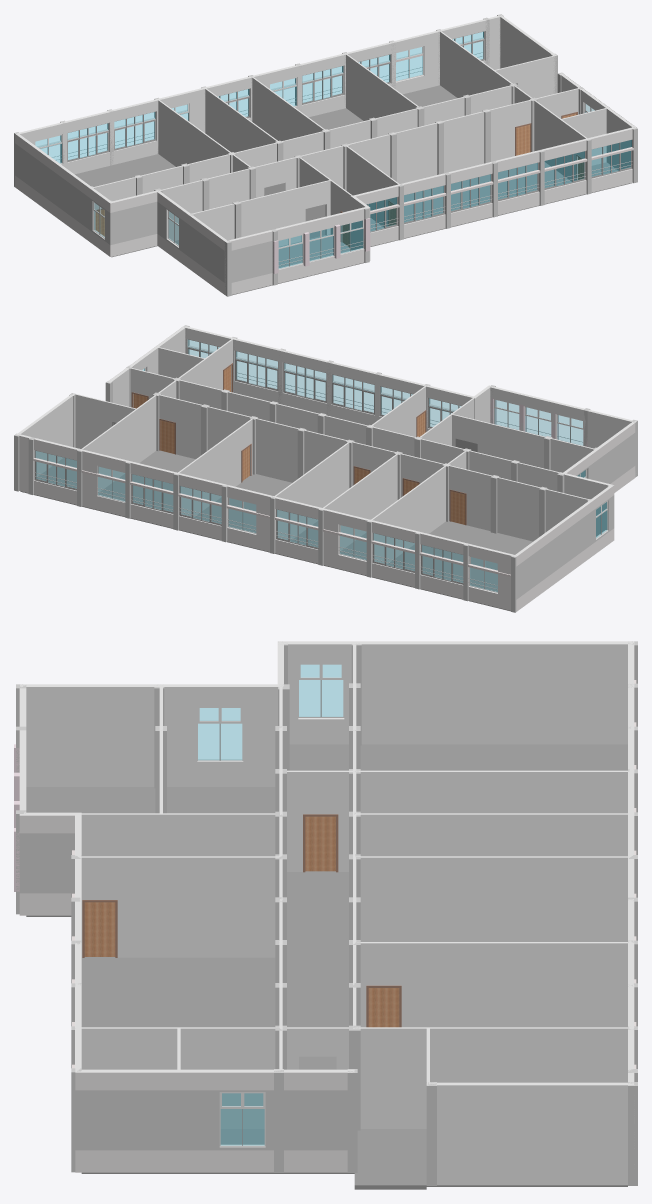
The model's file is NoLod_0.glb.
3 views of the same model, one above another, from view 1: azimuth 30°, elevation 25°; view 2: azimuth 150°, elevation 25°; view 3: azimuth 270°, elevation 25° (orthographic). The views are drawn at different scales.
Visible parts, largest first — view 1: rtc; view 2: rtc; view 3: rtc.
Part boxes in pixels (box(x1,y1,x2,y2)): rtc: box(14, 14, 637, 296); rtc: box(14, 325, 637, 612); rtc: box(14, 641, 637, 1189).
Bounding box in the file's own units: 34.26 × 3.75 × 20.33.
Materials: 11 (1 with a texture image).
